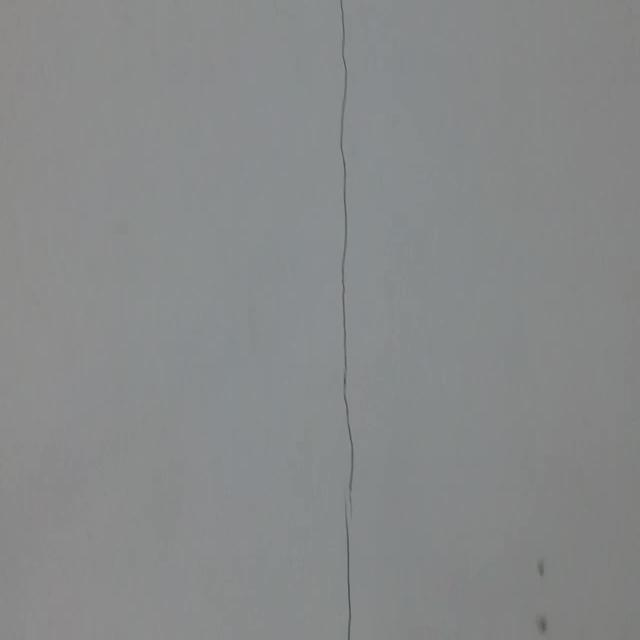Crack: (313, 0, 370, 640)
